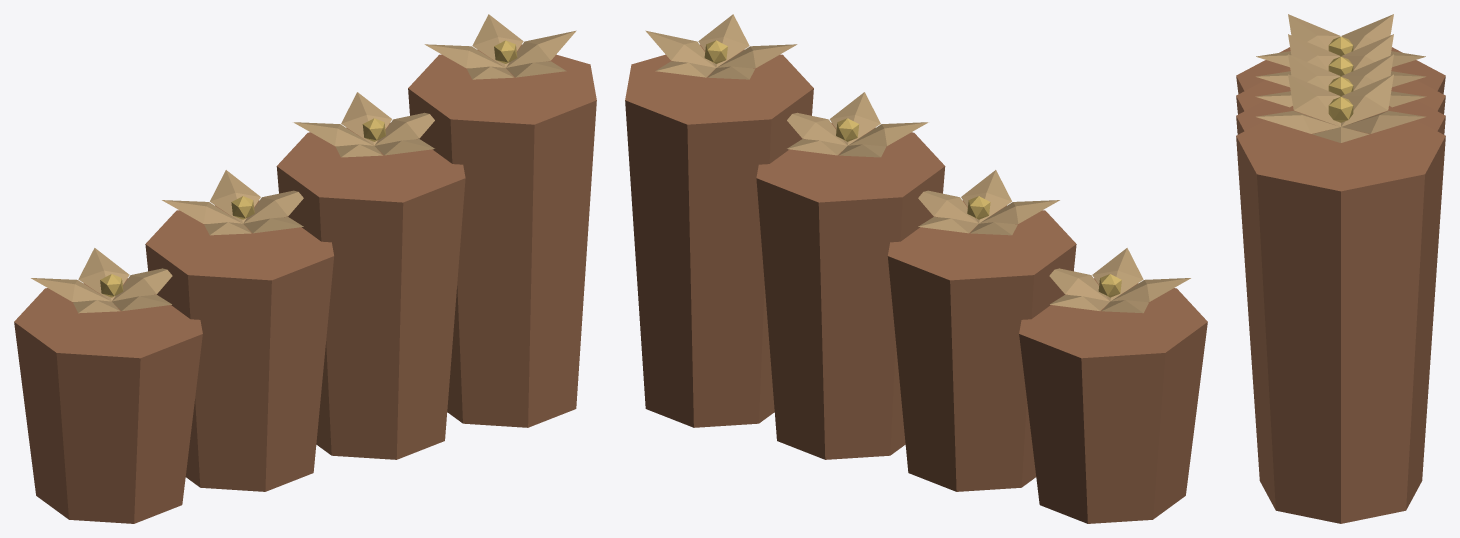
File: map-boundaries-v5__village_12.glb
3 views of the same model, side by side, from view 1: azimuth 30°, elevation 25°; view 2: azimuth 150°, elevation 25°; view 3: azimuth 270°, elevation 25° (orthographic). The views are drawn at different scales.
Parts seen in each view (by area): view 1: village_12; view 2: village_12; view 3: village_12.
Boxes of the visible parts, bbox=[...] form: village_12: bbox=[14, 14, 596, 523]; village_12: bbox=[625, 14, 1207, 523]; village_12: bbox=[1236, 14, 1445, 523].
Bounding box in the file's own units: 2.03 × 1.25 × 0.6045.
